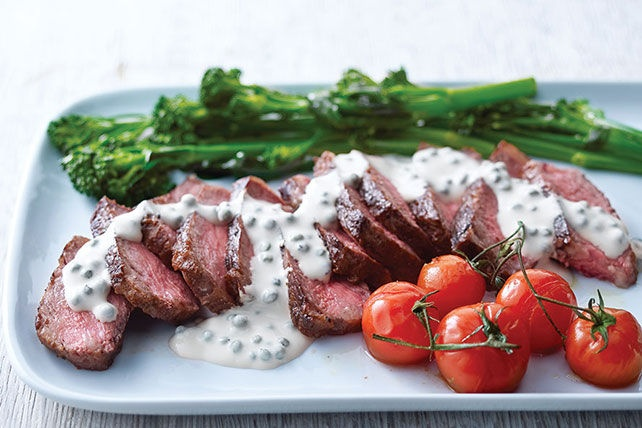background: (34, 41, 642, 261)
